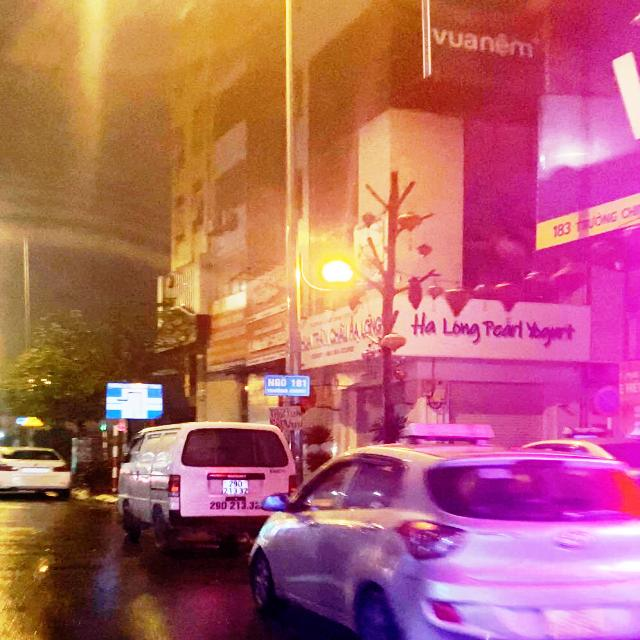license_plate: (222, 480, 251, 496)
